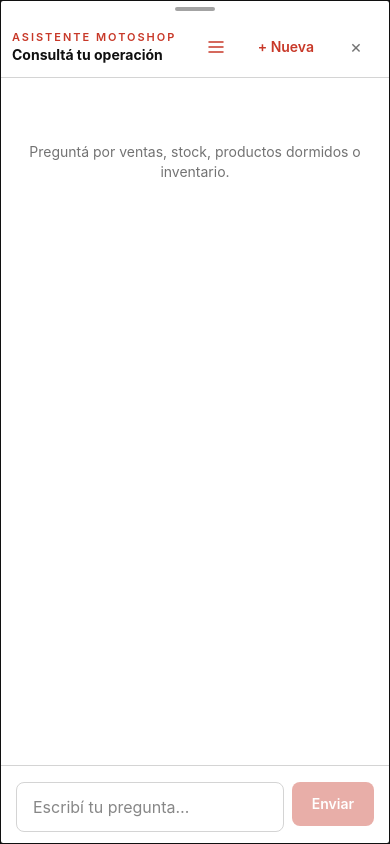
Test case: chat drawer contract states › keeps mobile history error accessible when there are no conversations
This screenshot has width=390, height=844.
Click the button named "Historial de conversaciones".
click(216, 47)  # box [194,25,238,69]
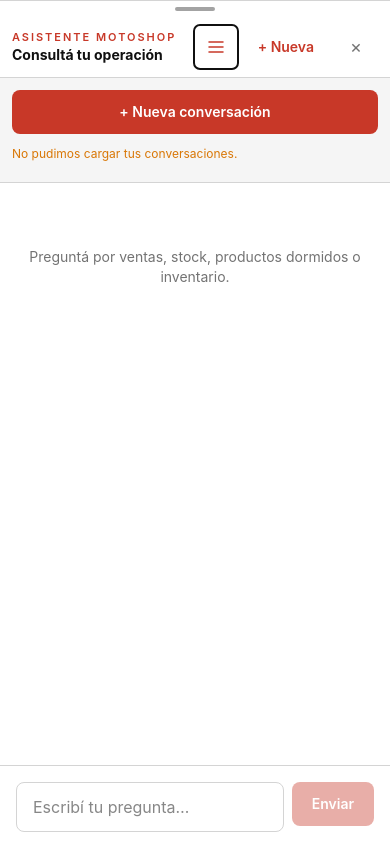
Result: the text "No pudimos cargar tus conversaciones." is shown at [12,146,237,161]
